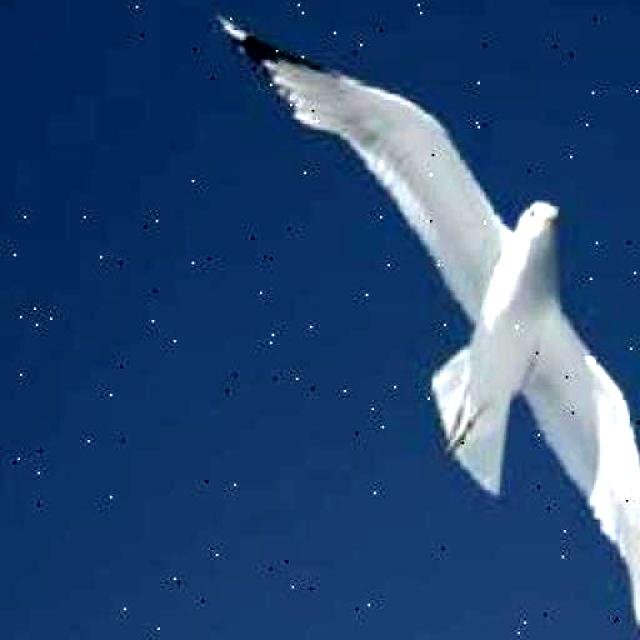airplane: (139, 14, 640, 640)
